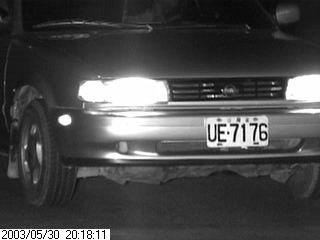plate: (204, 113, 270, 148)
